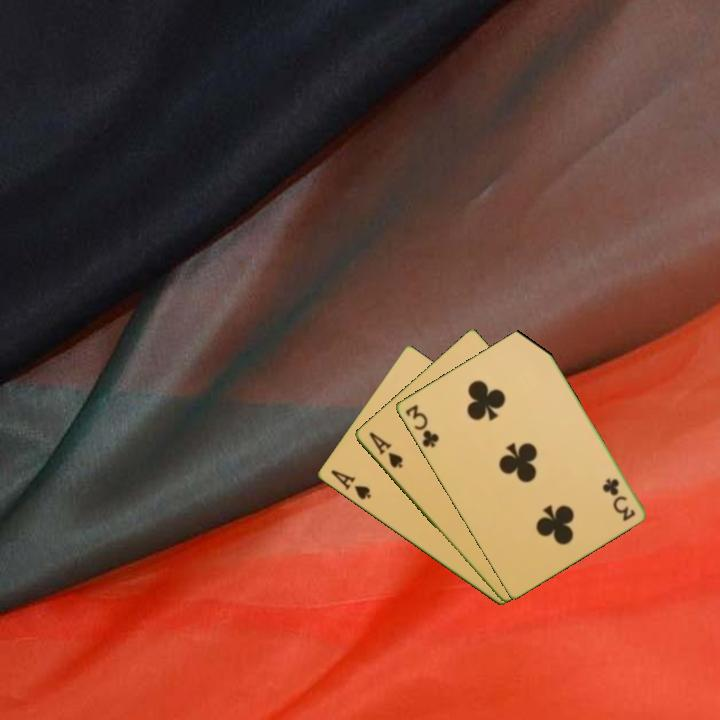3c: (401, 401, 442, 451), (600, 474, 638, 524)
As: (365, 428, 406, 471), (327, 466, 374, 503)
